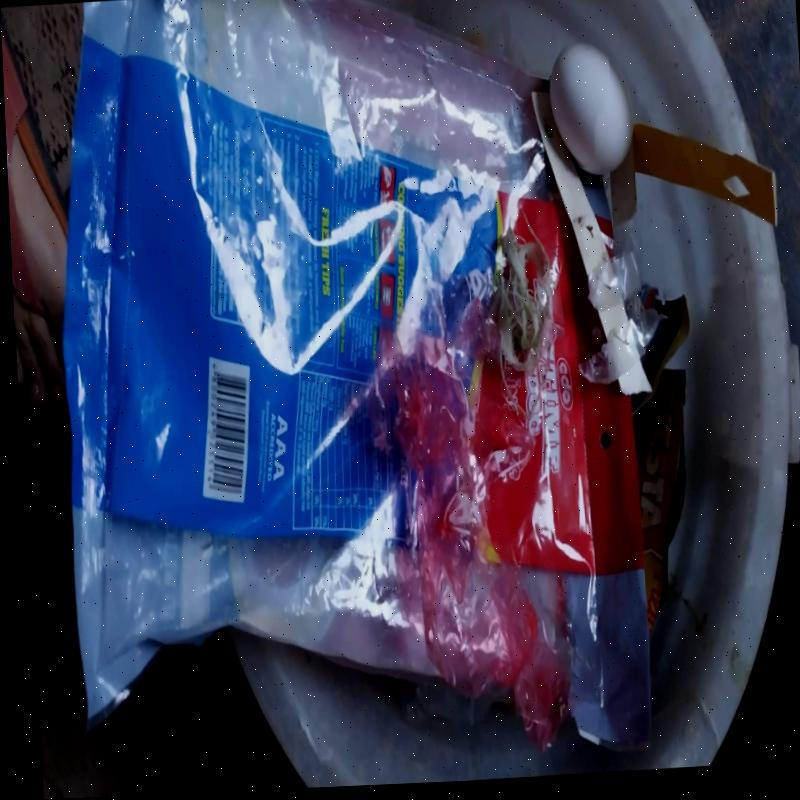egg shell: (547, 44, 630, 177)
food wrapper: (57, 0, 649, 751), (630, 366, 684, 627)
